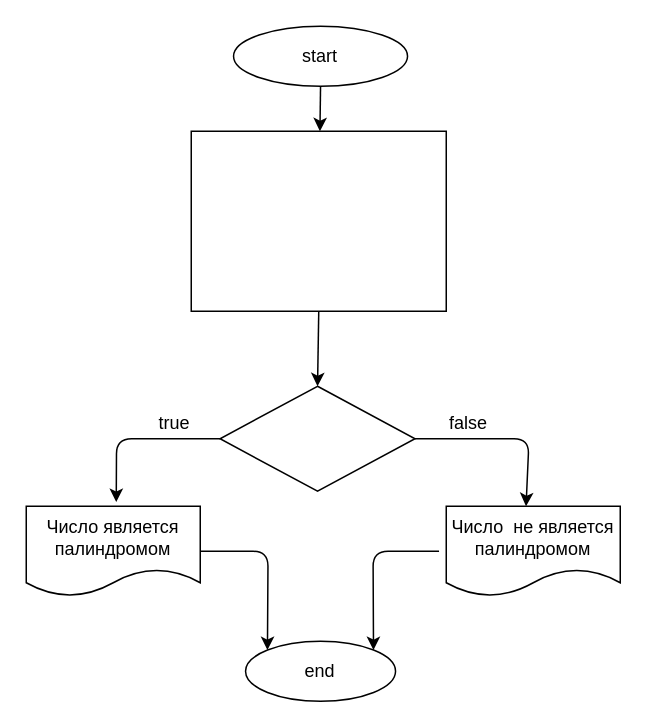
Image size: 647x728. Some labels were removed from this diagram. The centre of each missing label's shape, as x and y in pixels:
"a=e b=d" goes at point (317, 438).
"number = abcde a=number/10000 b=(number/1000)%10 d=(number%100)/10 e=number%10" goes at point (318, 220).
